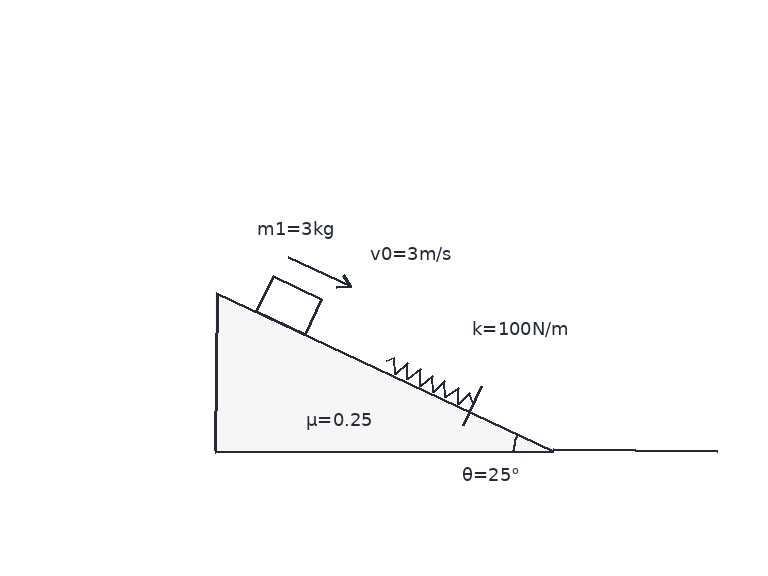block: (254, 274, 323, 336)
ramp: (214, 290, 556, 452)
spring: (383, 356, 475, 405)
